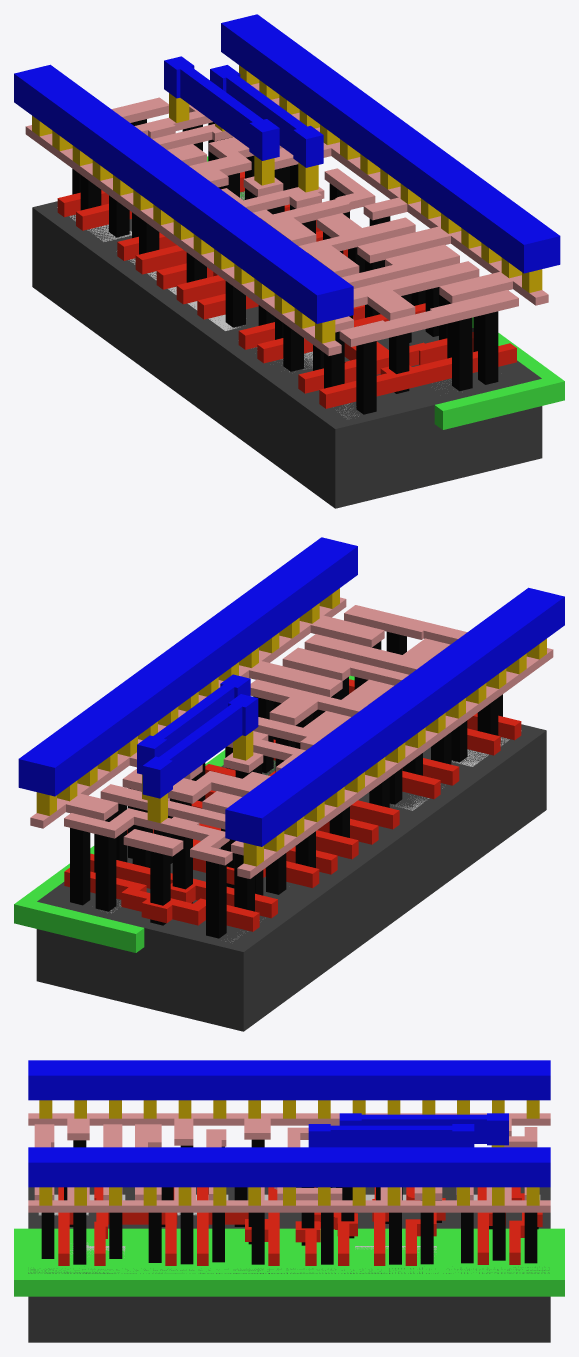
The model's file is sky130_fd_sc_hd__dlxbp_1.obj.
3 views of the same model, one above another, from view 1: azimuth 30°, elevation 25°; view 2: azimuth 150°, elevation 25°; view 3: azimuth 270°, elevation 25° (orthographic). The views are drawn at different scales.
Visible parts, largest first — view 1: metal1, subs, li, licon, poly, mcon, nwell, diff; view 2: metal1, subs, li, licon, poly, mcon, nwell; view 3: metal1, subs, nwell, li, licon, poly, mcon, diff.
Part boxes in pixels (box(x1,y1,x2,y2)): metal1: box(14, 14, 560, 323); subs: box(32, 191, 542, 508); li: box(25, 83, 548, 355); licon: box(72, 119, 498, 414); poly: box(57, 171, 516, 408); mcon: box(32, 65, 542, 343); nwell: box(207, 156, 564, 429); diff: box(57, 207, 358, 418); metal1: box(18, 537, 564, 846); subs: box(36, 724, 546, 1031); li: box(30, 597, 553, 878); licon: box(70, 631, 502, 938); poly: box(64, 679, 521, 931); mcon: box(36, 588, 546, 866); nwell: box(14, 675, 354, 952); metal1: box(28, 1060, 550, 1187); subs: box(28, 1187, 550, 1342); nwell: box(14, 1228, 564, 1296); li: box(28, 1113, 550, 1212); licon: box(41, 1139, 538, 1264); poly: box(58, 1187, 542, 1265); mcon: box(39, 1100, 539, 1205); diff: box(38, 1194, 540, 1215).
Size of the model in its own units: 3.2 by 2.74 by 7.28.
